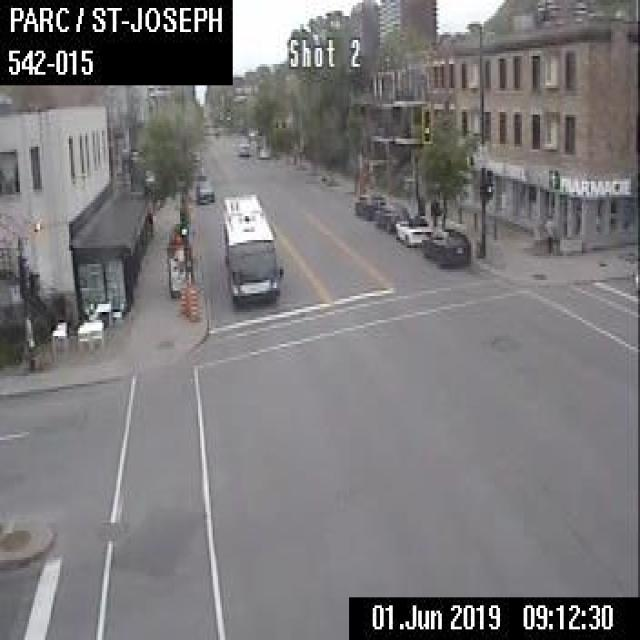bus: (216, 192, 282, 302)
construction: (187, 283, 198, 320), (177, 283, 187, 313)
vehicle: (421, 226, 467, 267), (394, 213, 431, 244), (372, 201, 408, 232), (353, 190, 385, 218), (195, 179, 212, 202), (237, 141, 249, 155)
